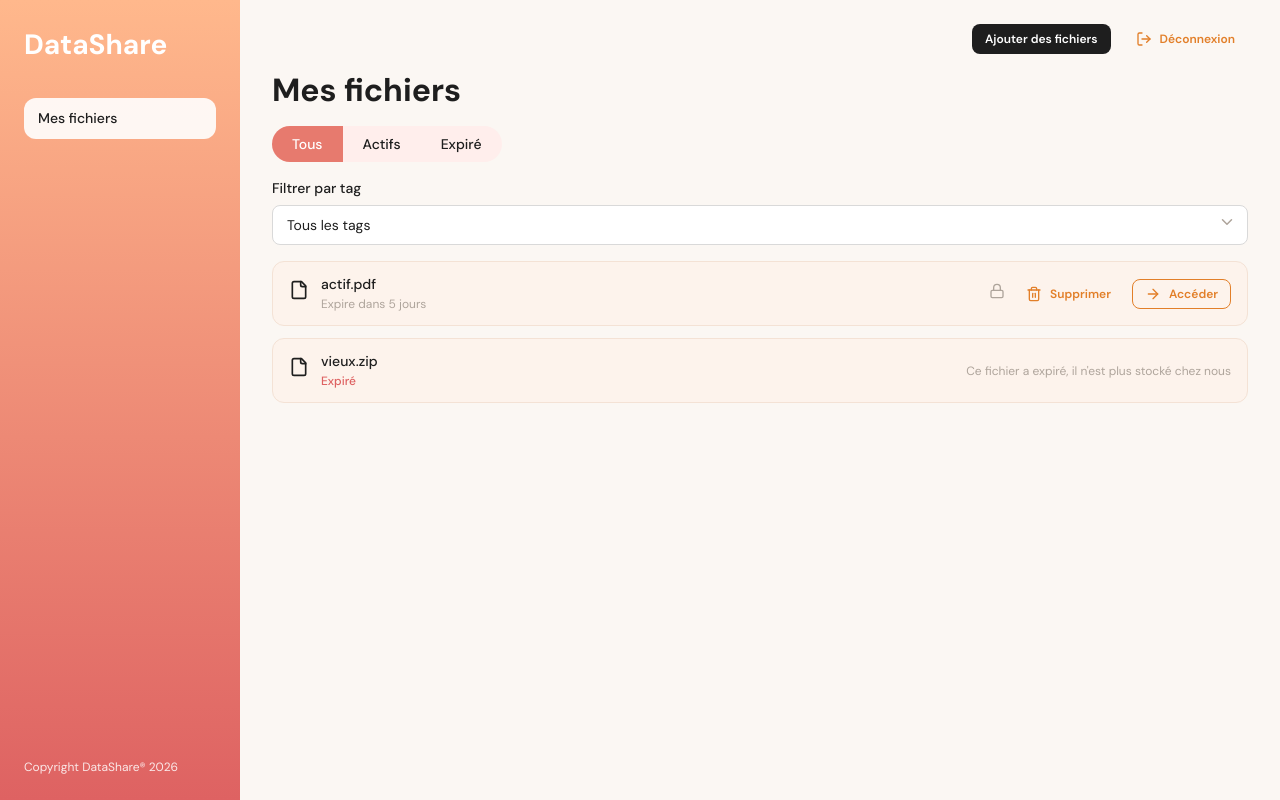
SpacePage › affiche un message explicite si la suppression échoue (plus d’échec silencieux)
Click the button "Supprimer" at coordinates (1068, 294), box [1013,278,1124,308]
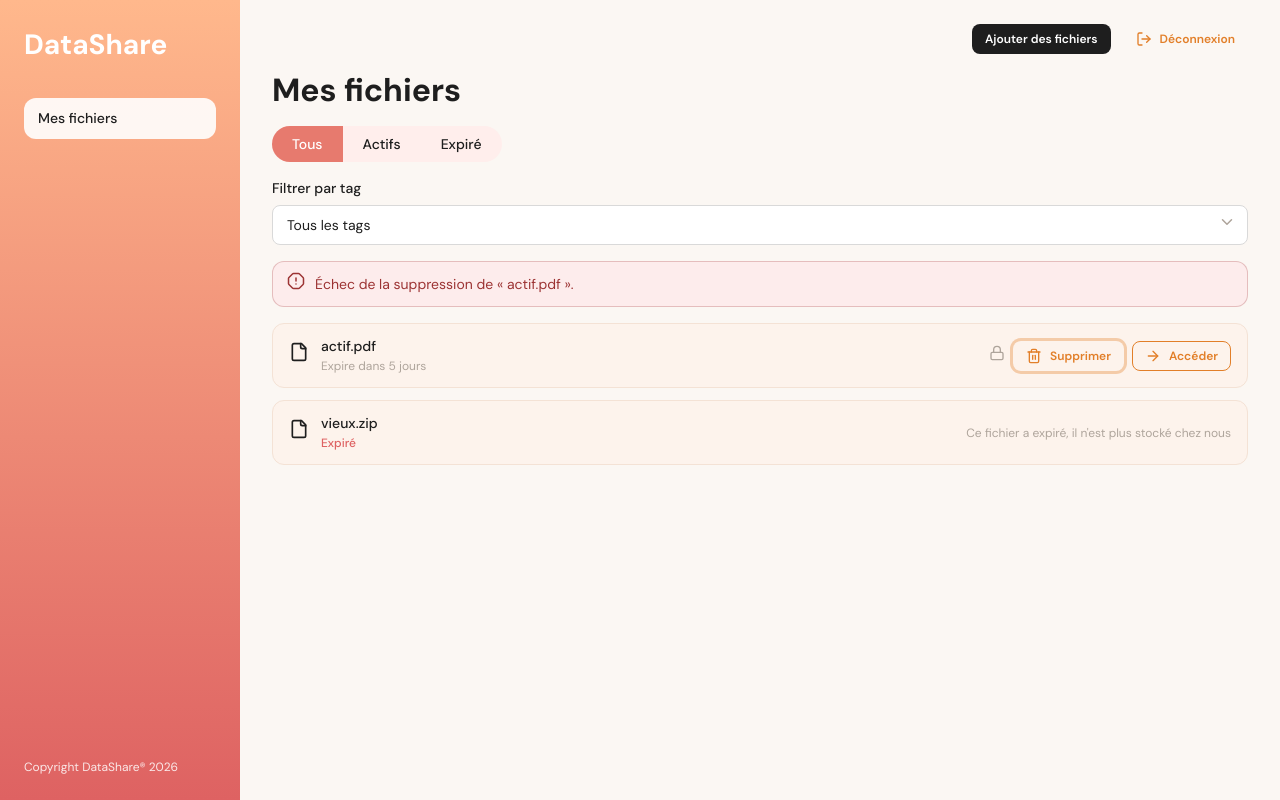
Expected: the text "Échec de la suppression de « actif.pdf »." is shown, [315,274,574,294]
